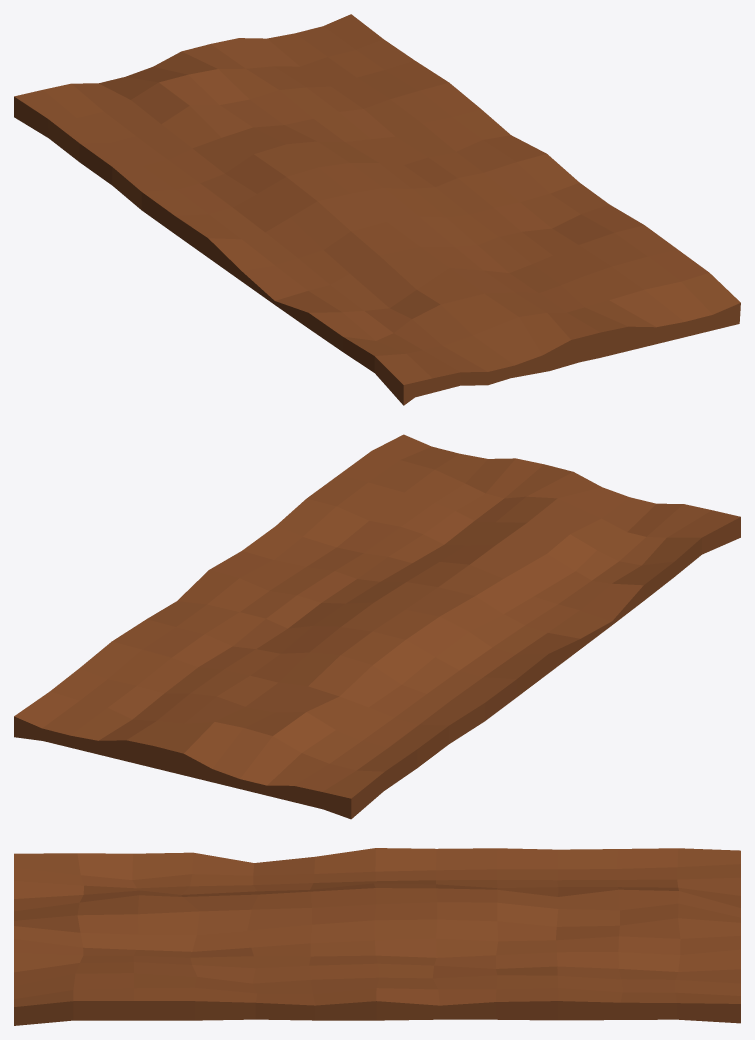
The model's file is GroundTile_4.fbx.
The picture shows the model from 3 angles, top to bottom: view 1: azimuth 30°, elevation 25°; view 2: azimuth 150°, elevation 25°; view 3: azimuth 270°, elevation 25°; orthographic projection. The views are drawn at different scales.
Visible parts, largest first — view 1: GroundTile_4; view 2: GroundTile_4; view 3: GroundTile_4.
Boxes of the visible parts, <box> form: GroundTile_4: <box>14,14,740,405</box>; GroundTile_4: <box>14,434,740,819</box>; GroundTile_4: <box>14,848,740,1025</box>.
Bounding box in the file's own units: 303 × 32.8 × 600.
